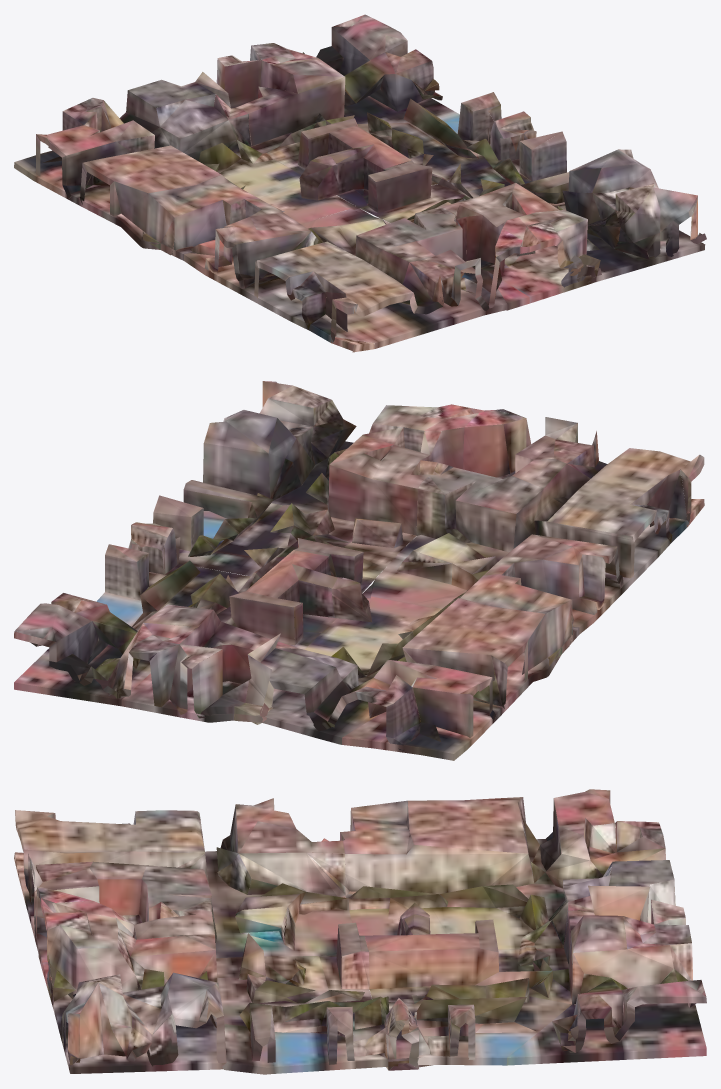
3 views of the same model, one above another, from view 1: azimuth 30°, elevation 25°; view 2: azimuth 150°, elevation 25°; view 3: azimuth 270°, elevation 25° (orthographic). The views are drawn at different scales.
Visible parts, largest first — view 1: Mesh_0; view 2: Mesh_0; view 3: Mesh_0.
Part boxes in pixels (left/top/right/bottom): Mesh_0: left=14, top=14, right=706, bottom=352; Mesh_0: left=14, top=381, right=704, bottom=760; Mesh_0: left=14, top=789, right=706, bottom=1074.
Size of the model in its own units: 267 by 43.62 by 330.
2 materials, 2 textured.
